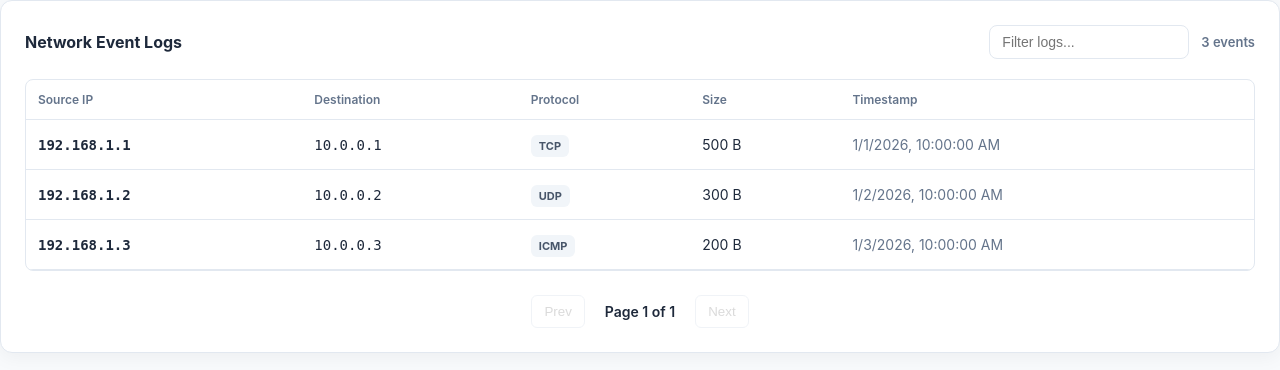
Scenario: Logs Component › filters logs based on input
Expected: the text "192.168.1.1" is shown, [26, 120, 302, 170]
Type "192.168.1.1" into the field with placeholder "Filter logs...".
click(1089, 42); type("192.168.1.1")  # box [989, 25, 1189, 59]
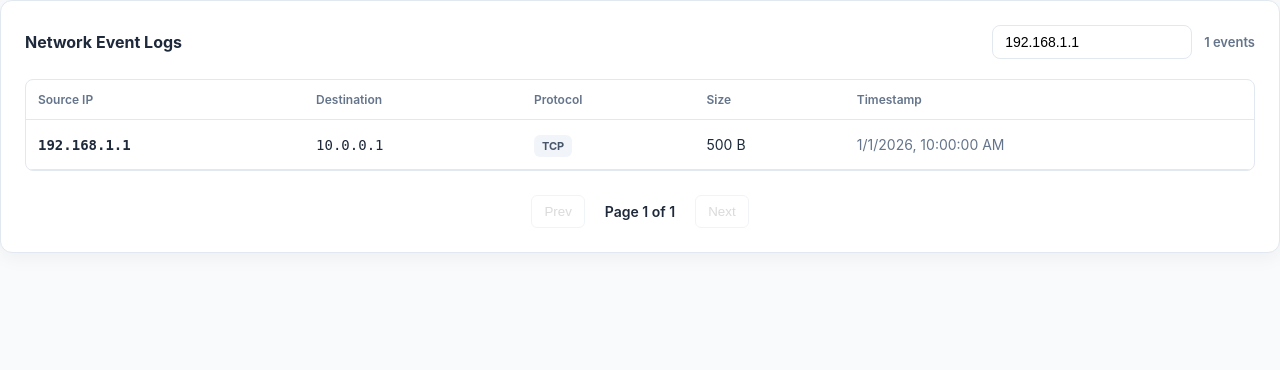
Expected: the text "192.168.1.1" is shown, [26, 120, 304, 170]
Expected: the text "192.168.1.2" is gone
